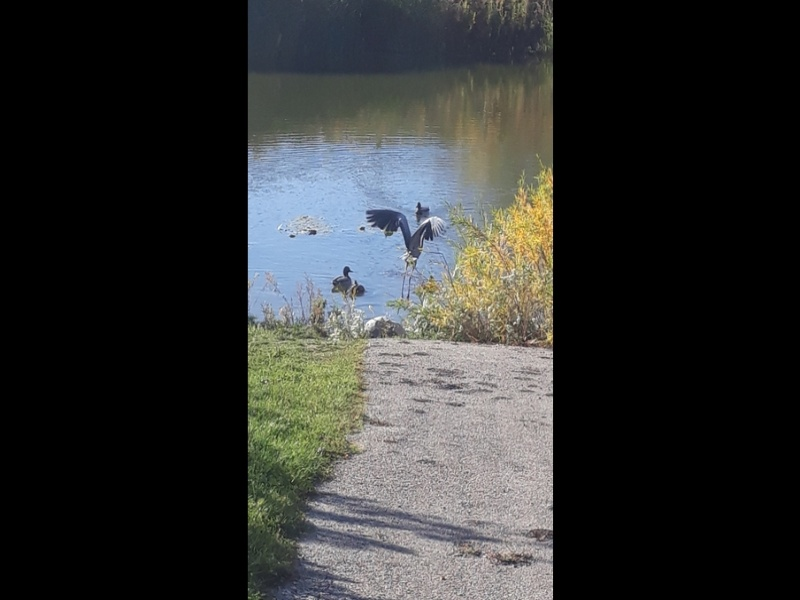heron: (365, 208, 445, 308)
